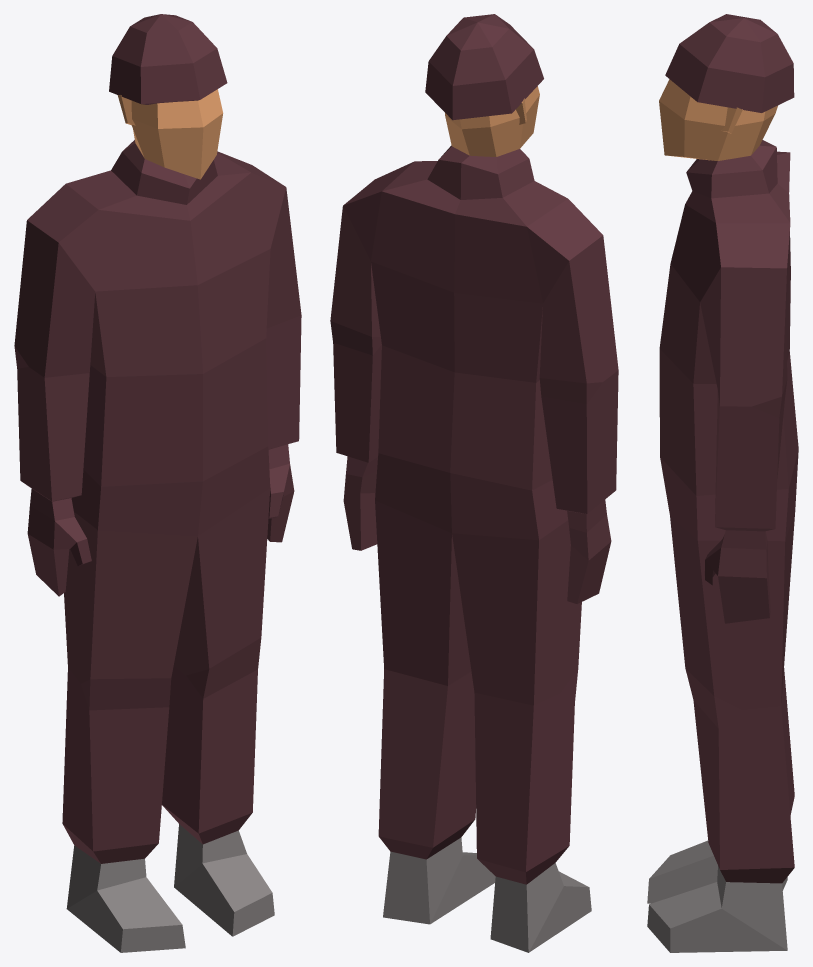
File: man-winter.fbx
The picture shows the model from 3 angles, left to right: view 1: azimuth 30°, elevation 25°; view 2: azimuth 150°, elevation 25°; view 3: azimuth 270°, elevation 25°; orthographic projection.
Visible parts, largest first — view 1: man-winter; view 2: man-winter; view 3: man-winter.
Part boxes in pixels (x1,y1,x2,y2): man-winter: (14,14,301,952); man-winter: (330,14,618,952); man-winter: (647,14,798,952).
Size of the model in its own units: 0.5518 by 1.83 by 0.2804.
